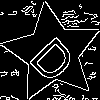D: (27, 28, 85, 86)
